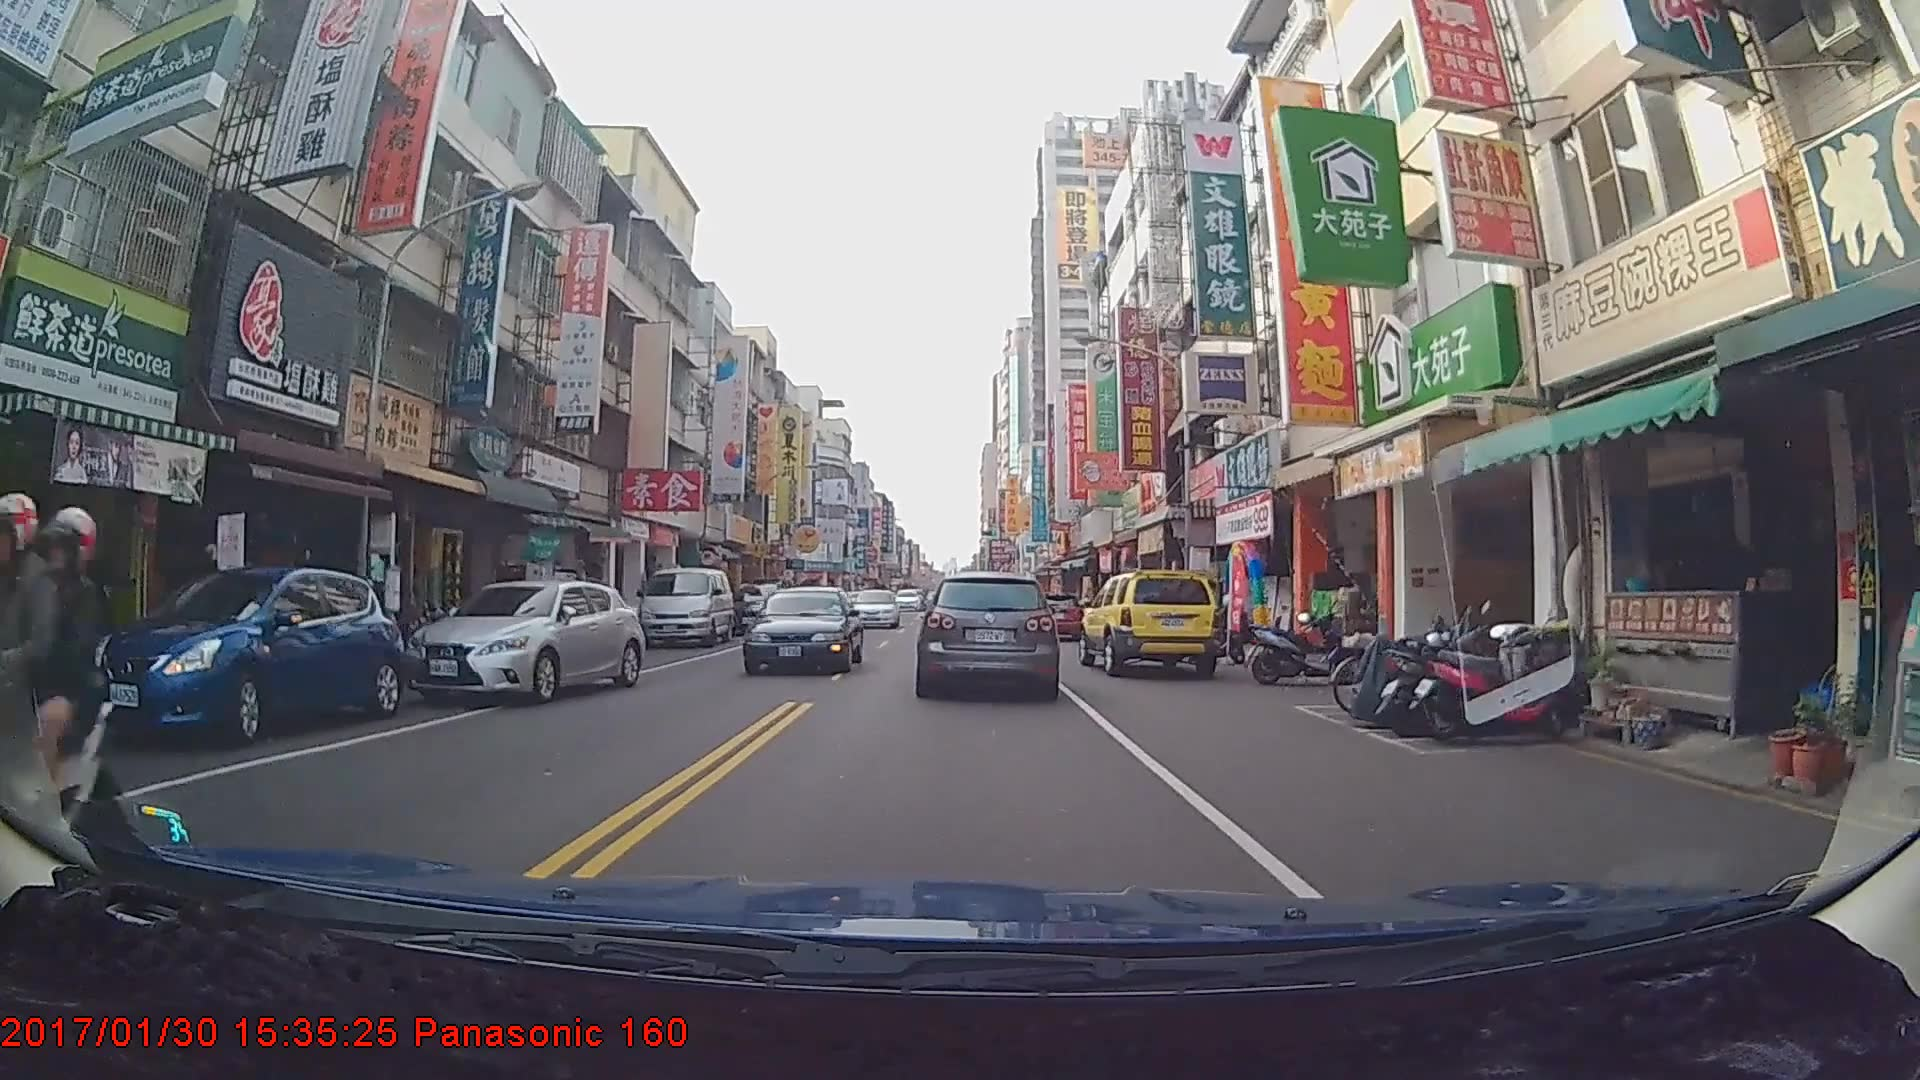rider: (1, 485, 142, 890)
vehicle: (89, 565, 406, 746), (399, 572, 646, 699), (918, 571, 1058, 698), (1079, 564, 1223, 675), (740, 585, 862, 676), (634, 565, 733, 645), (725, 581, 789, 635), (1020, 588, 1082, 639), (849, 588, 899, 629)
